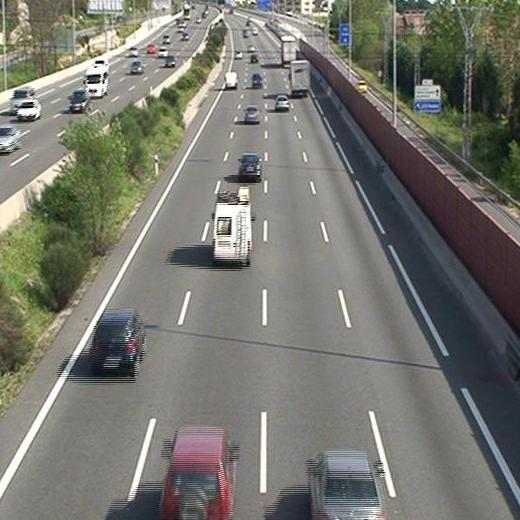car: (163, 425, 238, 520), (310, 452, 382, 520), (89, 312, 145, 379), (240, 153, 262, 177), (244, 106, 261, 122), (274, 95, 290, 110), (250, 53, 260, 63), (234, 50, 242, 60)
small-truck: (291, 61, 313, 96)
truck: (281, 35, 297, 66)
van: (213, 195, 252, 263), (223, 72, 239, 88), (252, 74, 264, 87)
